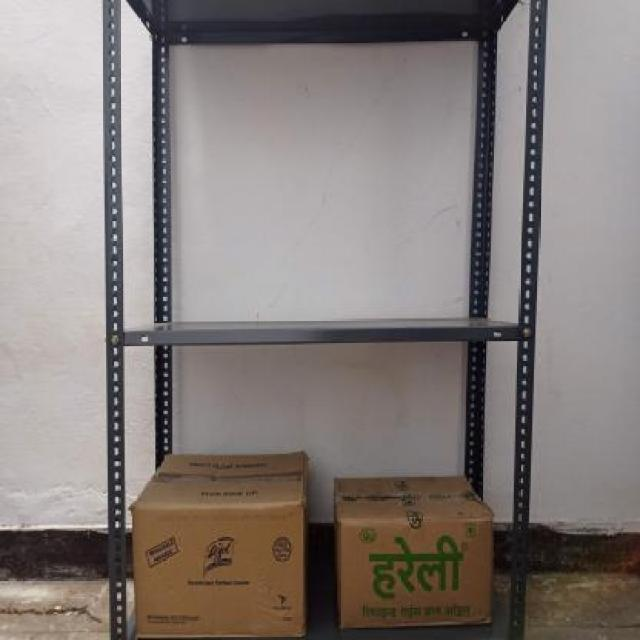box: (133, 507, 301, 640), (334, 520, 490, 623)
